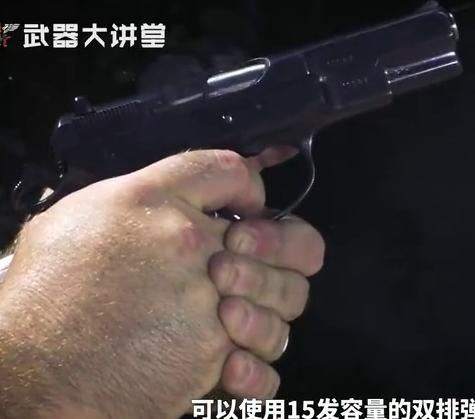gun: (1, 1, 475, 419)
